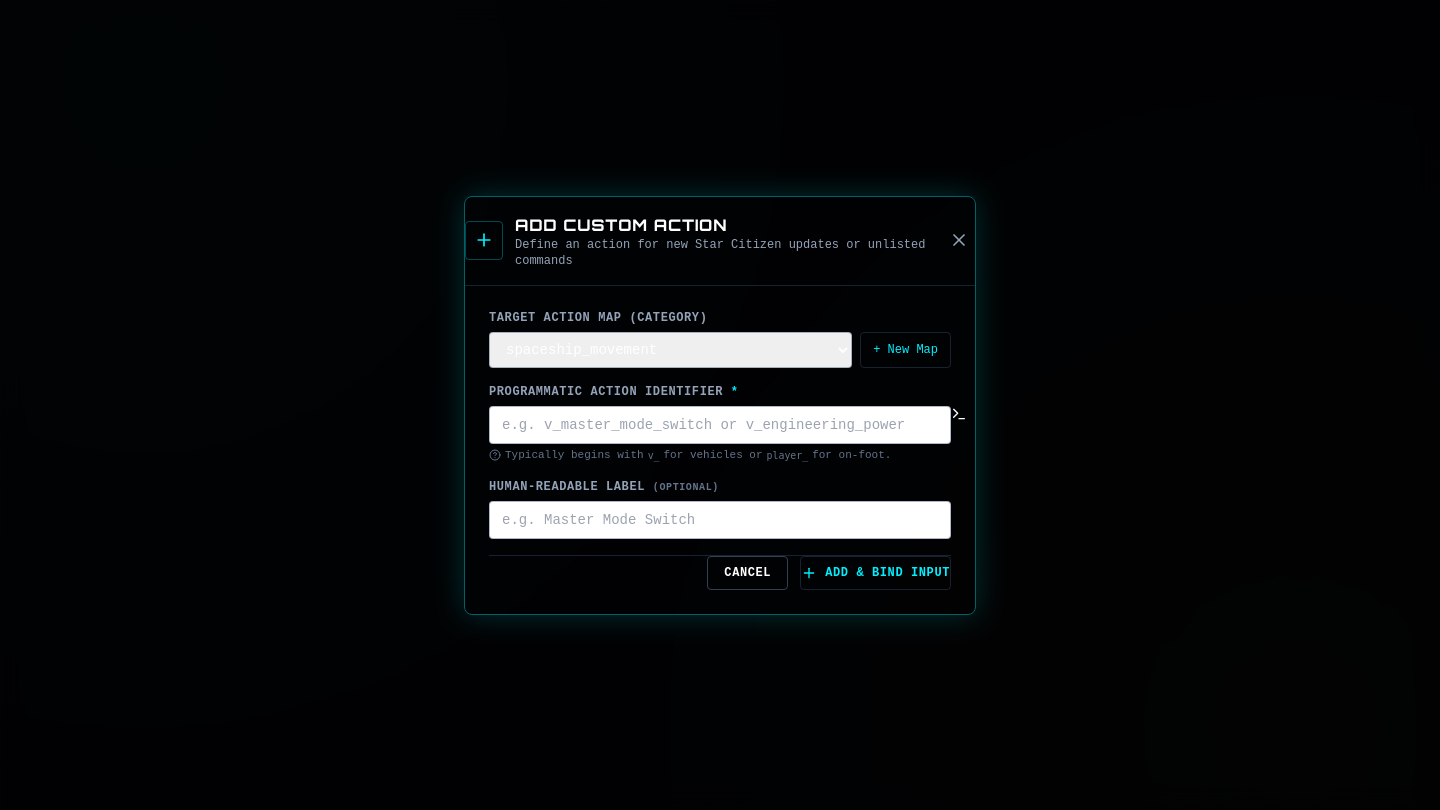
Scenario: AddCustomActionModal Component › switches to custom map name input and back to select
The width and height of the screenshot is (1440, 810).
// Switch to custom map input
What coordinates should you click on to do the following:
click the button "+ New Map"
I would click on:
 (906, 350)
Its box is top-left (860, 332), bottom-right (951, 368).
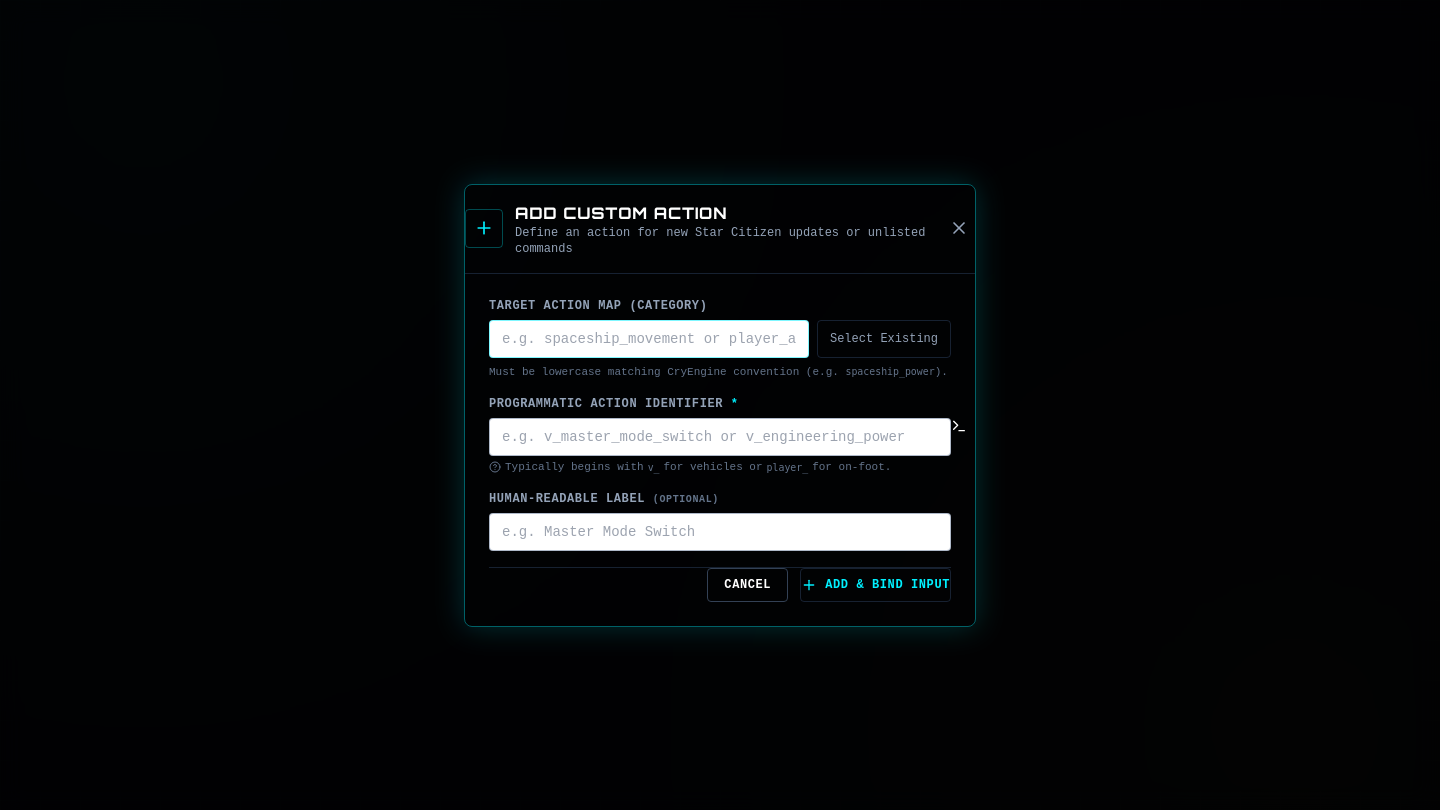
Expected: the field with placeholder "e.g. spaceship_movement or player_actions" is shown, top-left (489, 320), bottom-right (809, 358)
// Switch back to select
What coordinates should you click on to do the following:
click the button "Select Existing"
I would click on:
 (884, 338)
Its box is top-left (817, 320), bottom-right (951, 358).
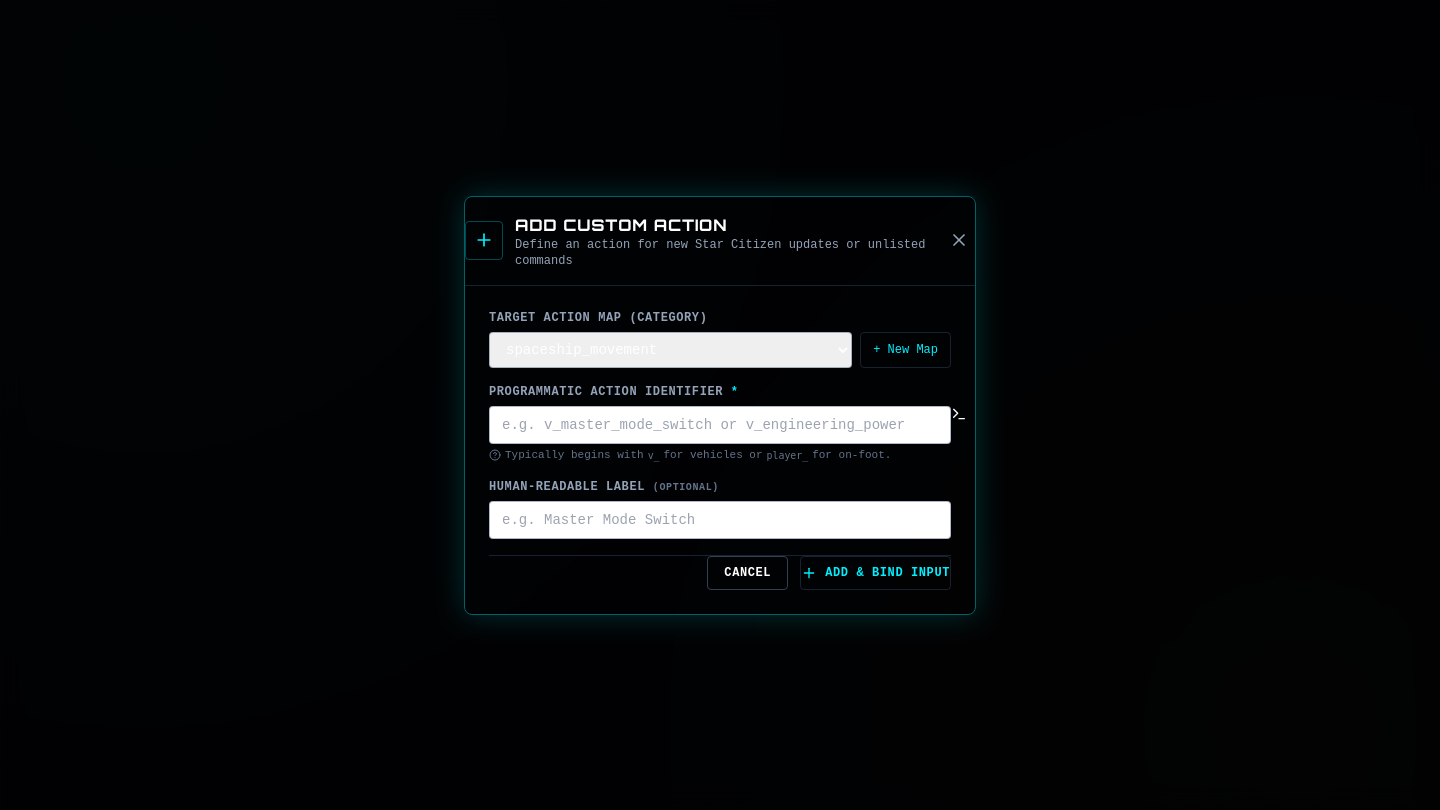
Expected: the dropdown showing "spaceship_movement" is shown, top-left (489, 332), bottom-right (852, 368)
